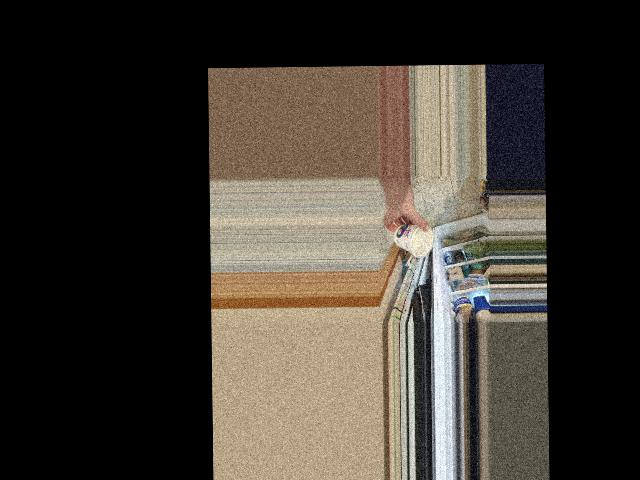cotage: (398, 224, 429, 260)
